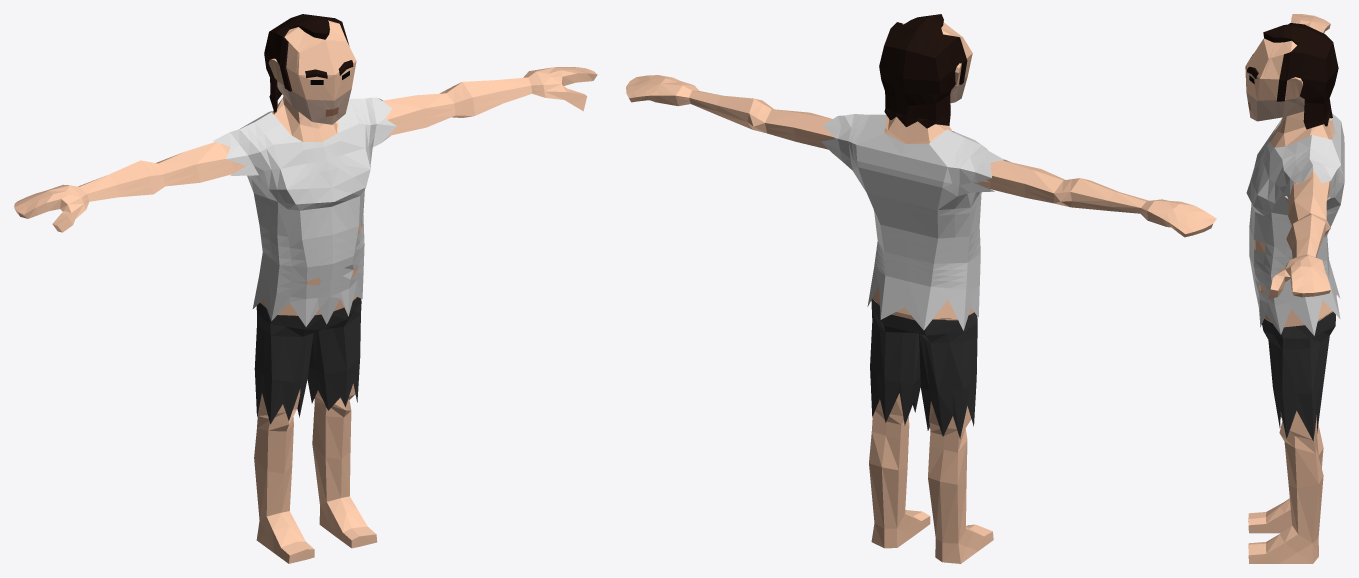
Rendered from NPC_2_M_Escenario1.fbx.
The picture shows the model from 3 angles, left to right: view 1: azimuth 30°, elevation 25°; view 2: azimuth 150°, elevation 25°; view 3: azimuth 270°, elevation 25°; orthographic projection. The views are drawn at different scales.
Parts seen in each view (by area): view 1: NPC; view 2: NPC; view 3: NPC.
Part boxes in pixels (bbox=[...]): NPC: bbox=[14, 14, 597, 563]; NPC: bbox=[626, 14, 1216, 563]; NPC: bbox=[1245, 14, 1344, 563].
Size of the model in its own units: 215 by 185 by 32.28.
